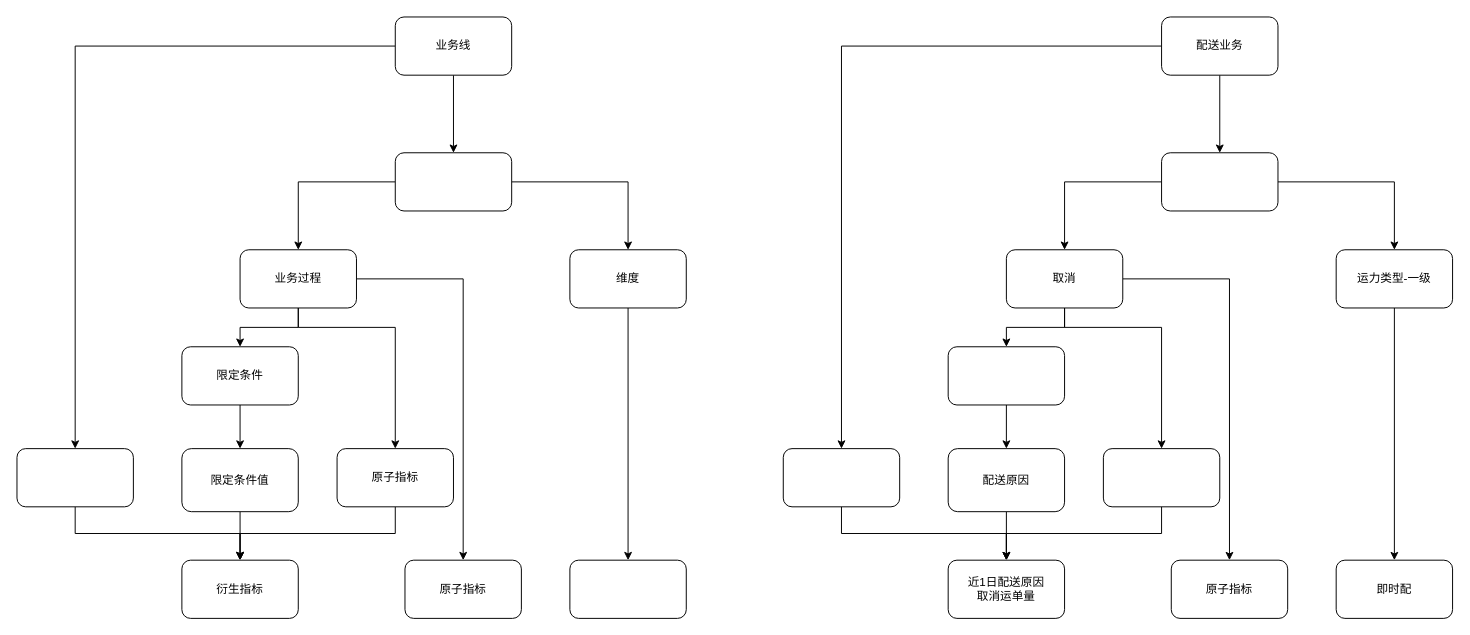
Some shapes in this 1470 by 635 pixel diagram are drawn without their labels. Here are the shapes that lost their labels. From the top down, the centre of each, then its label:
At (453,181): "数据域".
At (1219,181): "履约域".
At (1006,375): "取消原因".
At (74,477): "时间周期".
At (841,477): "近1日".
At (1161,477): "取消运单量".
At (627,588): "维度属性".
